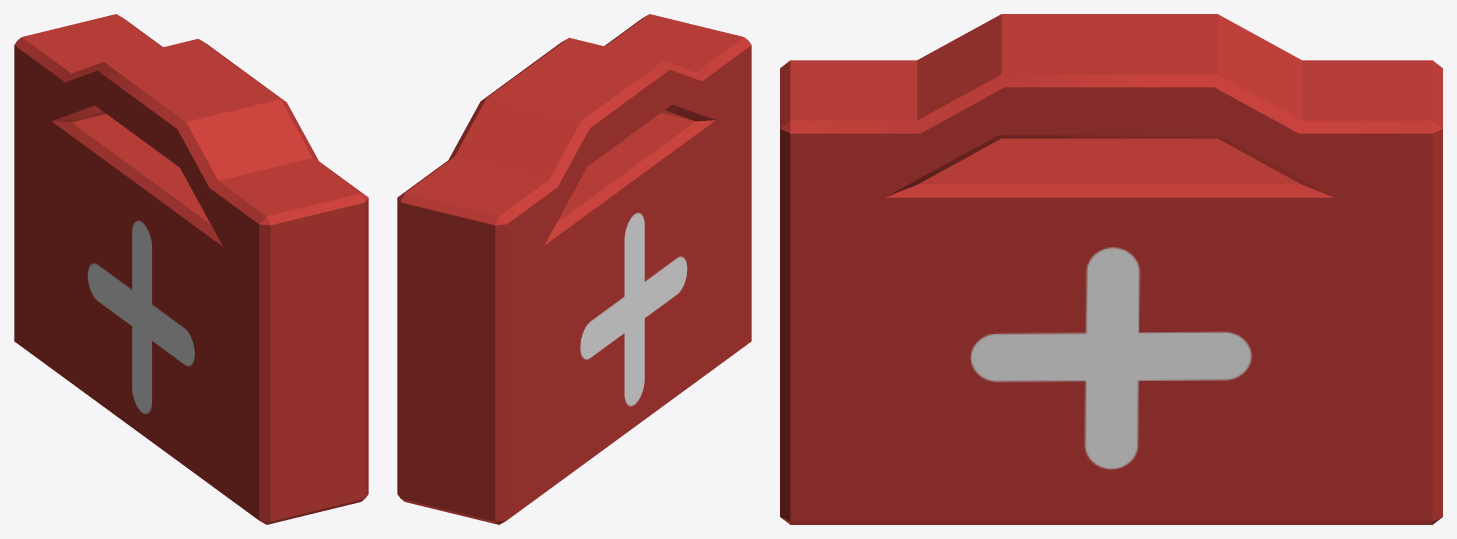
The model's file is Obj_Medkit.fbx.
3 renders of one model, left to right at view 1: azimuth 30°, elevation 25°; view 2: azimuth 150°, elevation 25°; view 3: azimuth 270°, elevation 25°, orthographic. The views are drawn at different scales.
Parts seen in each view (by area): view 1: Obj_Medkit; view 2: Obj_Medkit; view 3: Obj_Medkit.
Part boxes in pixels (x1,y1,x2,y2): Obj_Medkit: (14,14,368,524); Obj_Medkit: (397,14,751,524); Obj_Medkit: (780,14,1442,524).
Bounding box in the file's own units: 0.1 × 0.3 × 0.4.
